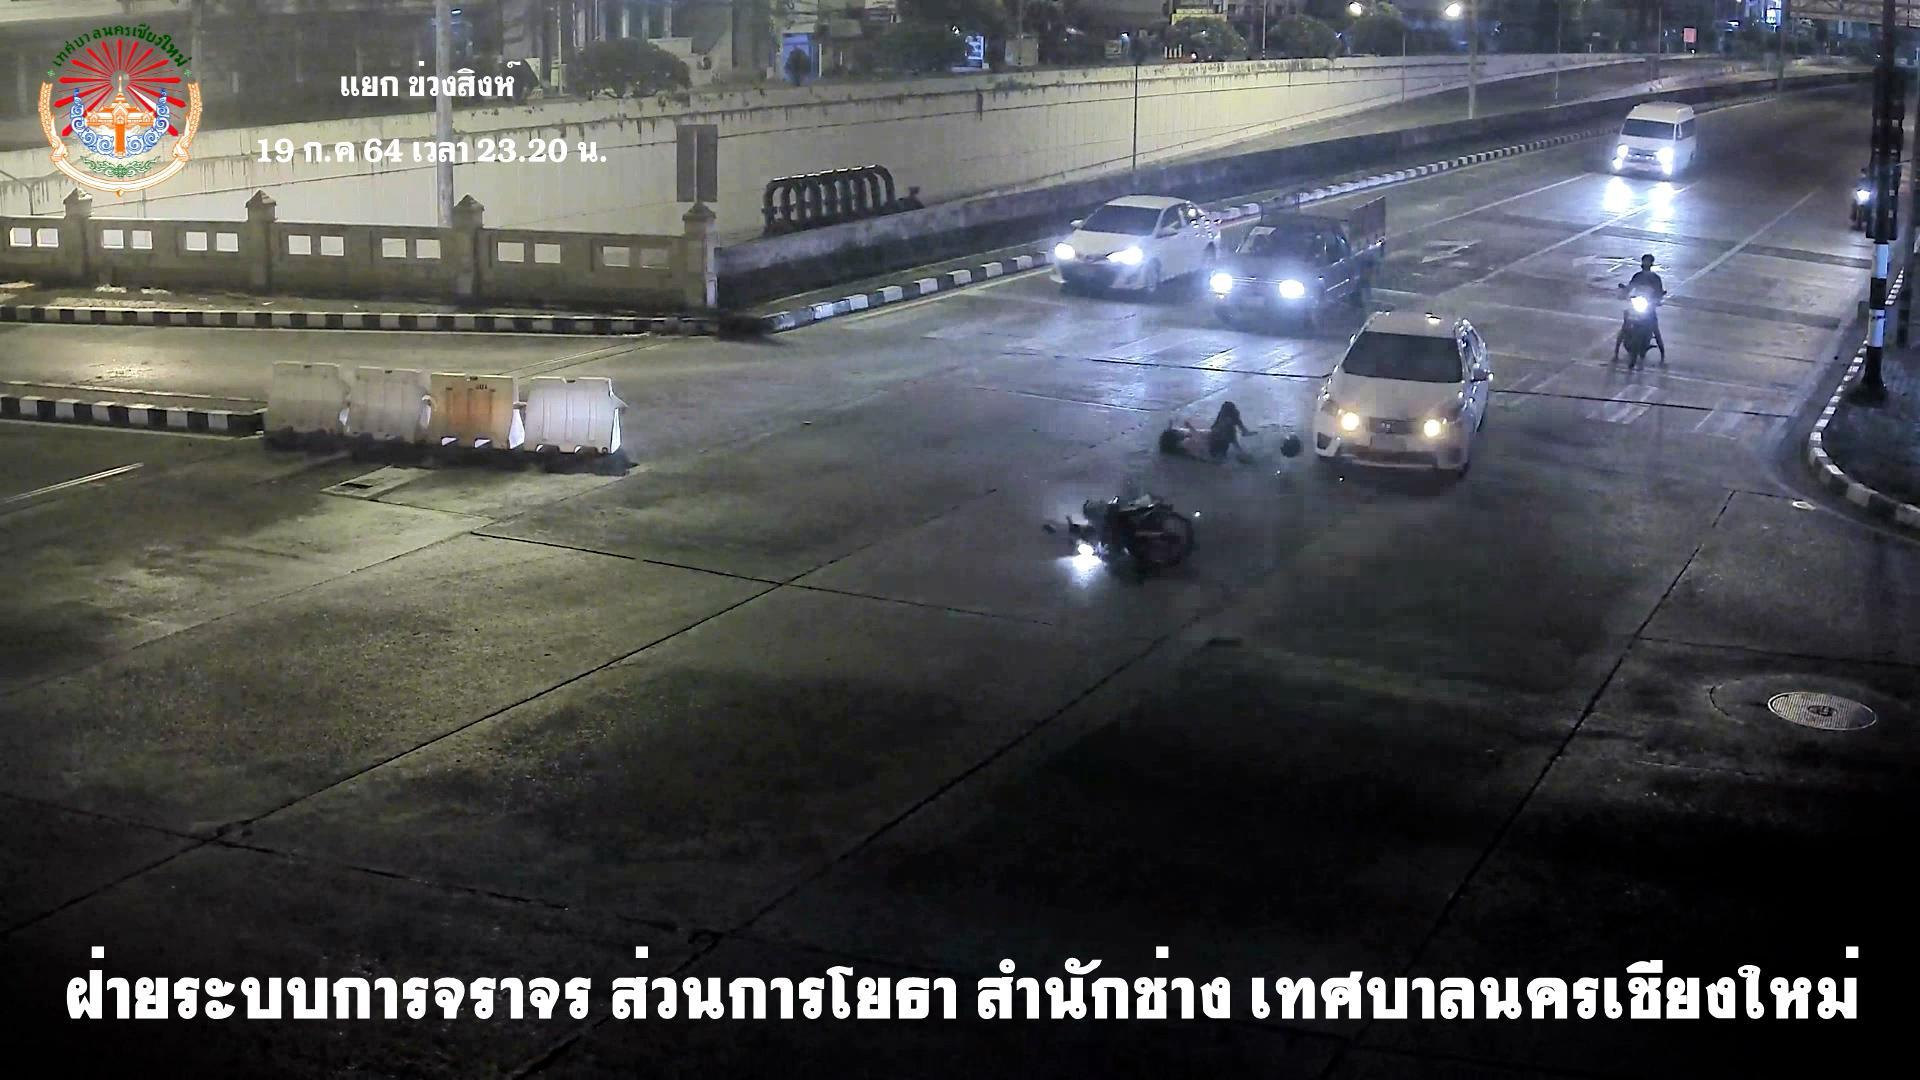accident: (1154, 394, 1266, 475)
